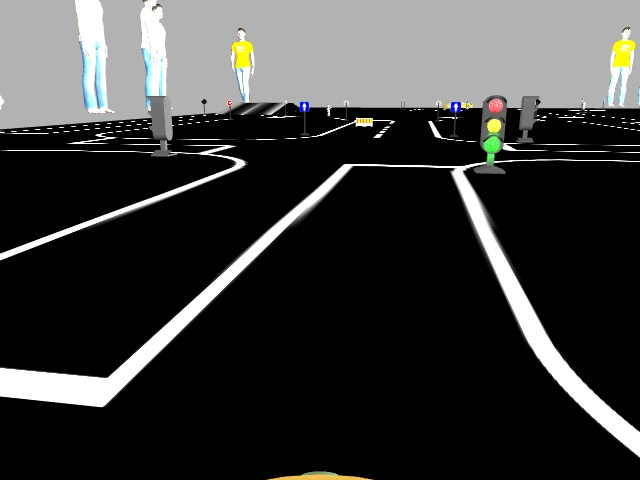ClosedRoadStand: (356, 117, 372, 126)
OneWay: (450, 101, 459, 111), (299, 101, 308, 110)
TrafficLight: (479, 94, 505, 153)
